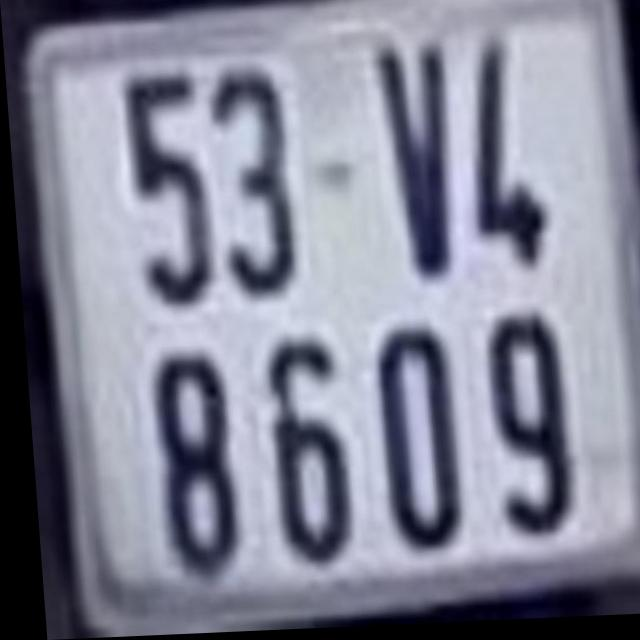0: (368, 326, 455, 550)
3: (206, 65, 294, 296)
4: (463, 41, 546, 271)
5: (116, 66, 215, 309)
6: (260, 335, 348, 567)
8: (143, 352, 230, 564)
9: (475, 318, 566, 544)
V: (371, 43, 457, 279)
